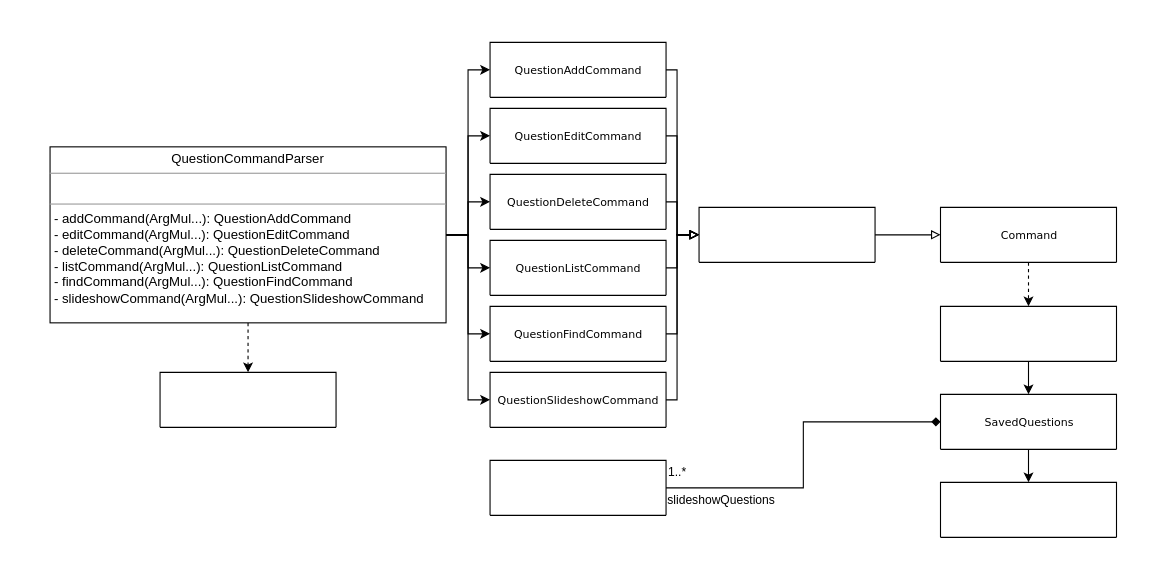
The diagram is 1170 pixels wide and 587 high, and some of its shapes have lost their labels. The centre of each missing label's shape, as x and y in pixels:
ArgumentMultimap: (x=247, y=399)
Model: (x=1027, y=333)
Question: (x=577, y=487)
QuestionBank: (x=1027, y=509)
QuestionCommand: (x=786, y=234)
